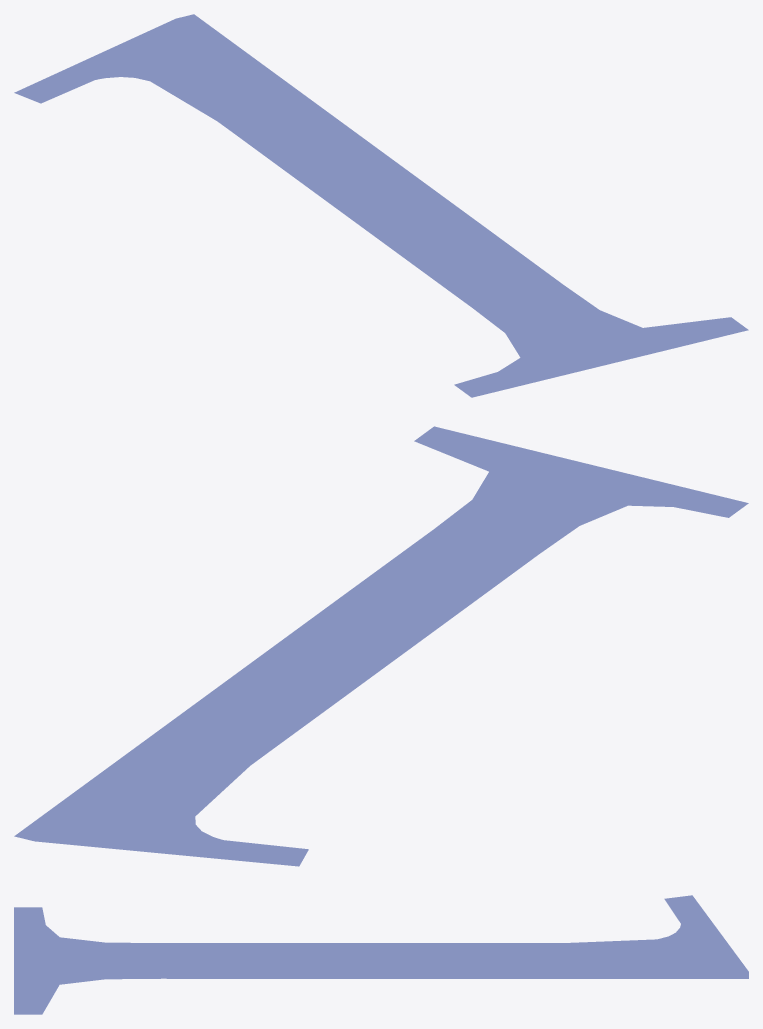
3 renders of one model, top to bottom at view 1: azimuth 30°, elevation 25°; view 2: azimuth 150°, elevation 25°; view 3: azimuth 270°, elevation 25°, orthographic. The views are drawn at different scales.
Parts seen in each view (by area): view 1: Trim_Char_x_1_1; view 2: Trim_Char_x_1_1; view 3: Trim_Char_x_1_1.
Boxes of the visible parts, x1,y1,x2,y2 form: Trim_Char_x_1_1: (14,14,748,397); Trim_Char_x_1_1: (14,426,748,866); Trim_Char_x_1_1: (14,895,748,1014).
Bounding box in the file's own units: 10 × 1.55e-15 × 26.
